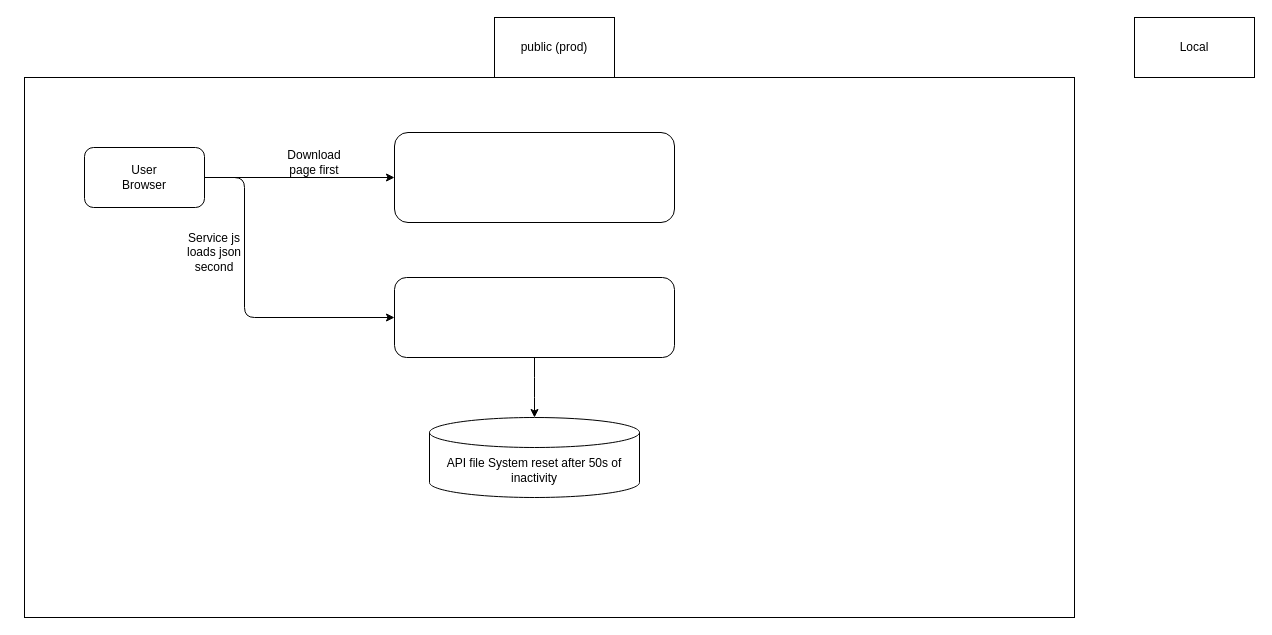
Image size: 1272x635. Some labels were removed from this diagram. The centre of each missing label's shape, as x and y in pixels:
"API on Render.com https://webintrofinal-masterofart605.onrender.com/" goes at [534,317].
"Git hub pages https://mickelsonspring26.github.io/webintrofinal-Masterofart605/" goes at [534,177].
